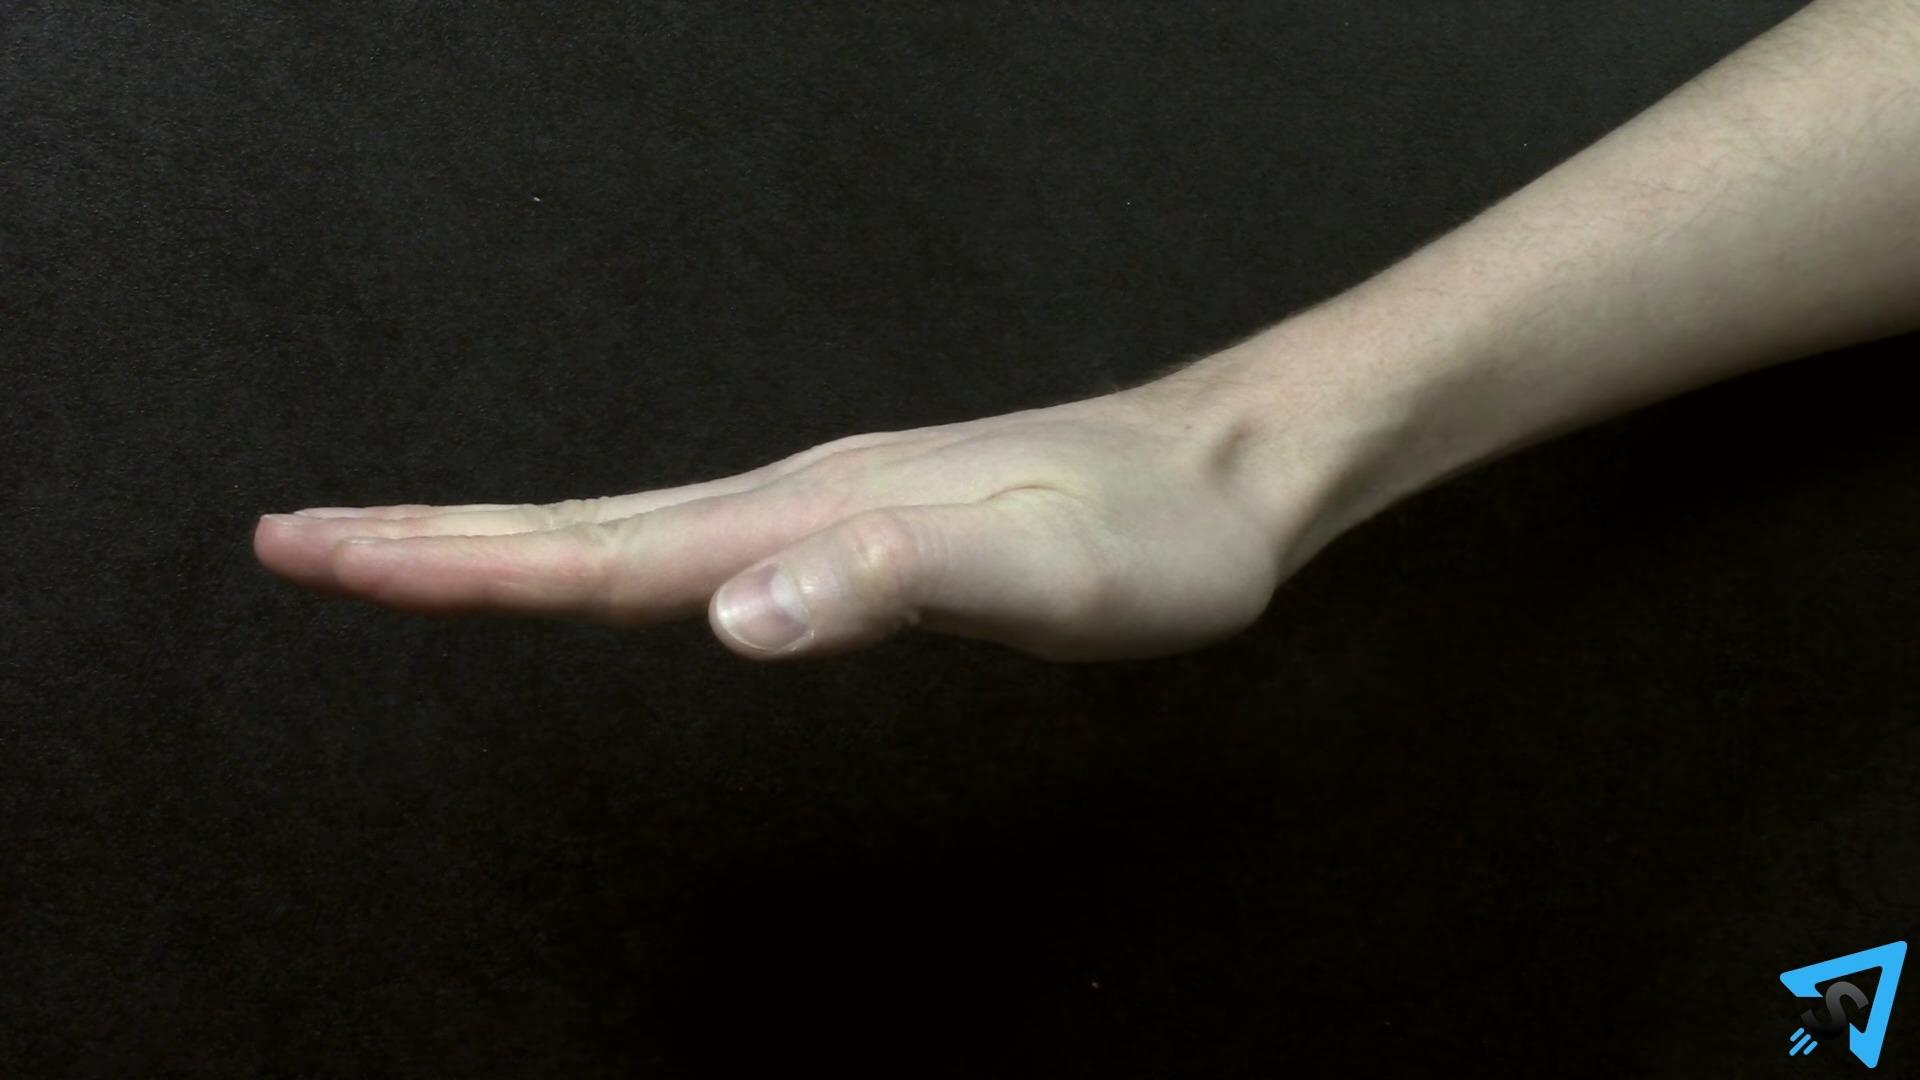Paper: (245, 402, 1296, 661)
